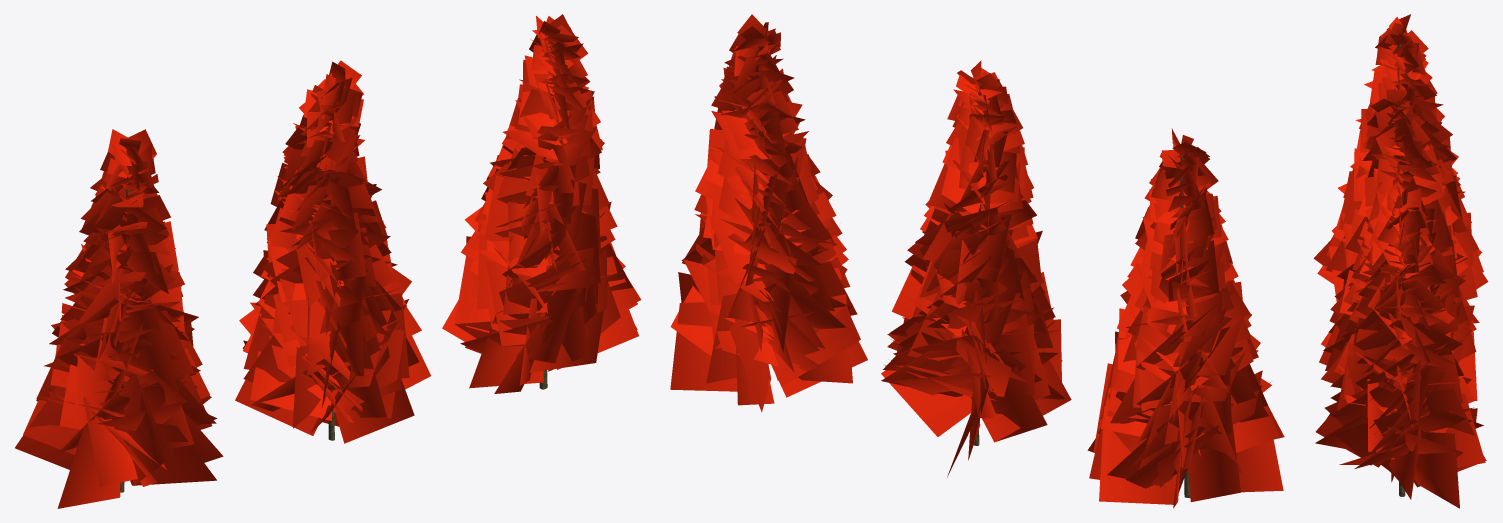
The model's file is LowPolyTrees.fbx.
3 views of the same model, side by side, from view 1: azimuth 30°, elevation 25°; view 2: azimuth 150°, elevation 25°; view 3: azimuth 270°, elevation 25° (orthographic). The views are drawn at different scales.
Visible parts, largest first — view 1: Tree-1, Tree, Tree-2; view 2: Tree-2, Tree, Tree-1; view 3: Tree-2, Tree-1, Tree.
Part boxes in pixels (left/top/right/bottom): Tree-1: left=235, top=60, right=430, bottom=443; Tree: left=15, top=129, right=223, bottom=508; Tree-2: left=442, top=14, right=641, bottom=393; Tree-2: left=670, top=14, right=867, bottom=412; Tree: left=1087, top=128, right=1284, bottom=508; Tree-1: left=881, top=60, right=1071, bottom=477; Tree-2: left=1315, top=181, right=1486, bottom=508; Tree-1: left=1319, top=89, right=1477, bottom=400; Tree: left=1313, top=14, right=1488, bottom=323.
Bounding box in the file's own units: 274 × 172 × 84.22.
